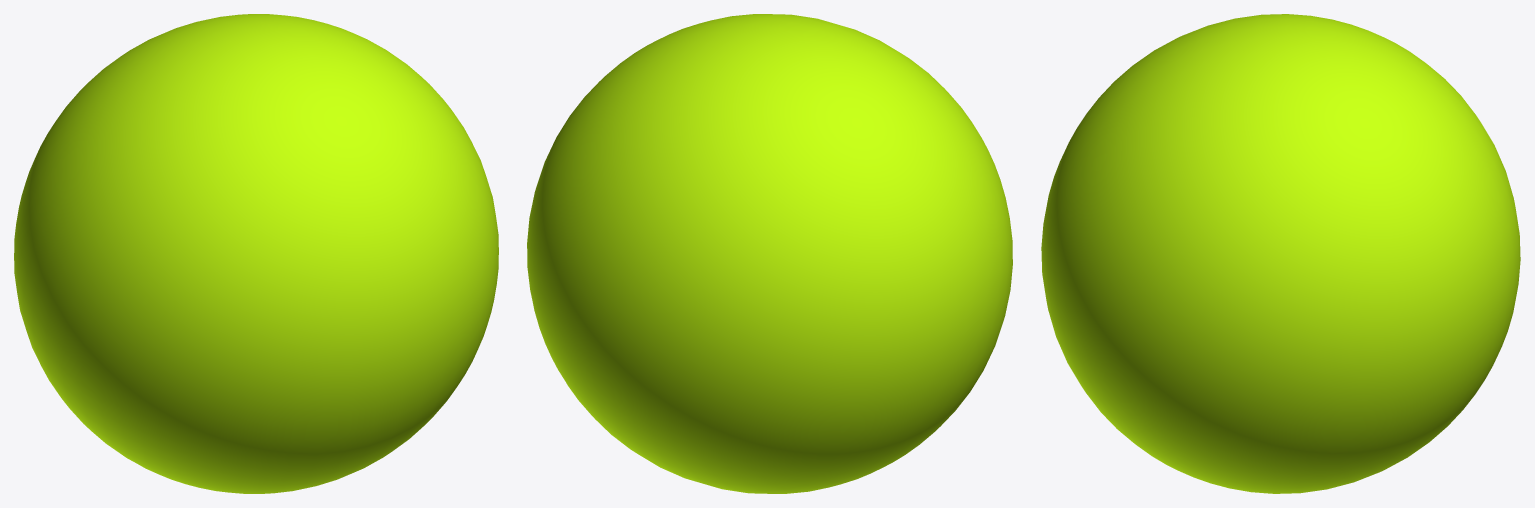
The picture shows the model from 3 angles, left to right: view 1: azimuth 30°, elevation 25°; view 2: azimuth 150°, elevation 25°; view 3: azimuth 270°, elevation 25°; orthographic projection.
Parts seen in each view (by area): view 1: node_id5; view 2: node_id5; view 3: node_id5.
Part boxes in pixels (x1,y1,x2,y2): node_id5: [14, 14, 498, 493]; node_id5: [527, 14, 1012, 493]; node_id5: [1041, 14, 1520, 493].
Size of the model in its own units: 0.6 by 0.5907 by 0.5906.
Materials: 1 (1 with a texture image).
